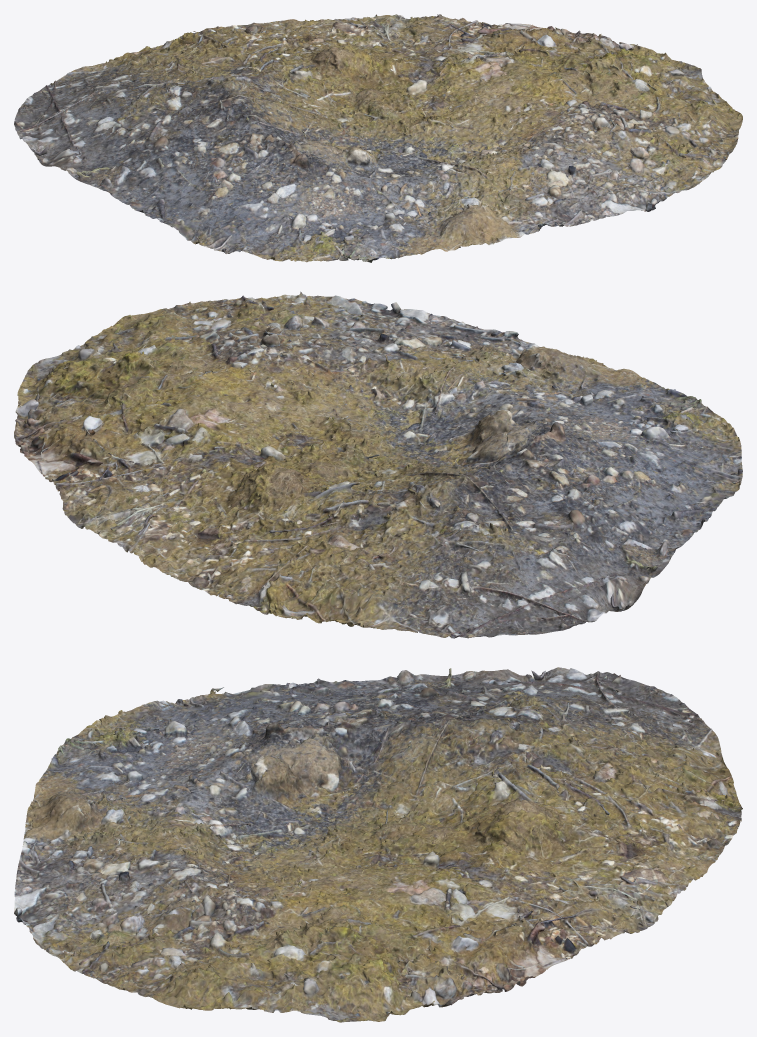
File: rocks.glb
3 views of the same model, one above another, from view 1: azimuth 30°, elevation 25°; view 2: azimuth 150°, elevation 25°; view 3: azimuth 270°, elevation 25° (orthographic). The views are drawn at different scales.
Visible parts, largest first — view 1: Moss rocks and ash surface; view 2: Moss rocks and ash surface; view 3: Moss rocks and ash surface.
Boxes of the visible parts, box(x1,y1,x2,y2) form: Moss rocks and ash surface: box(14, 14, 742, 262); Moss rocks and ash surface: box(14, 291, 742, 638); Moss rocks and ash surface: box(14, 667, 742, 1022).
Bounding box in the file's own units: 3.07 × 0.2776 × 2.67.
1 material, 1 textured.
